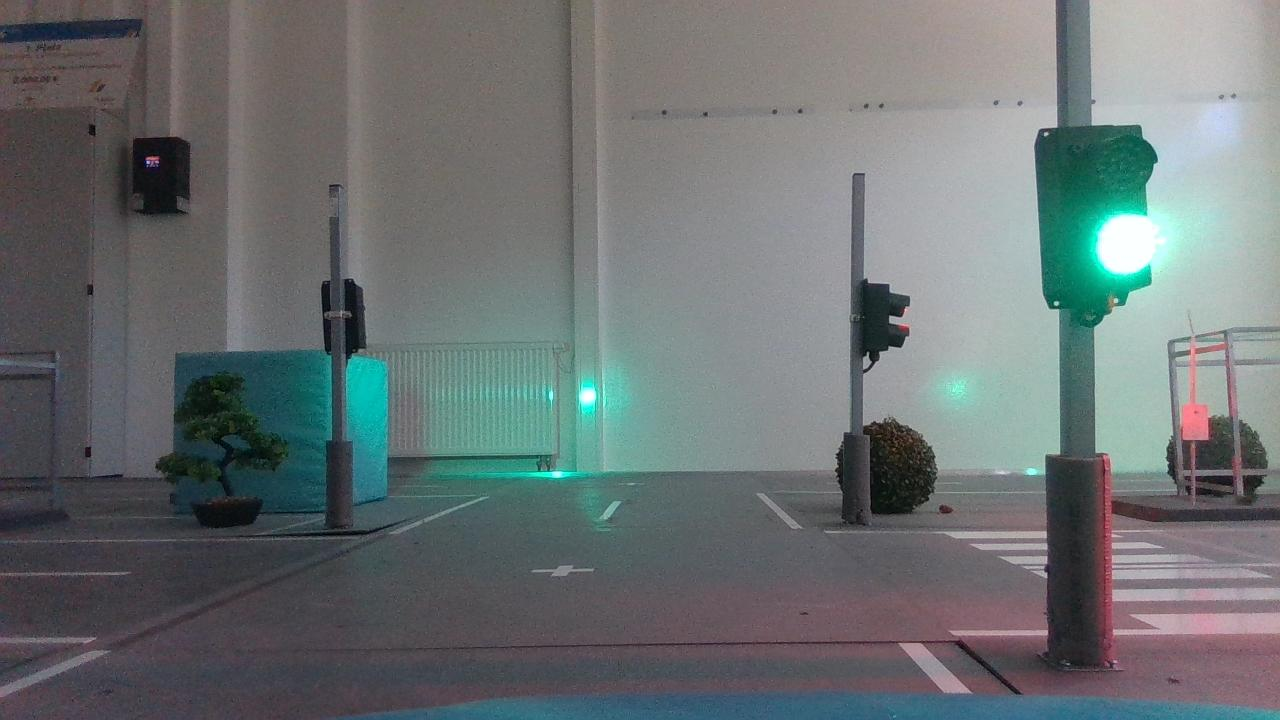traffic_light_green: (1024, 118, 1170, 327)
